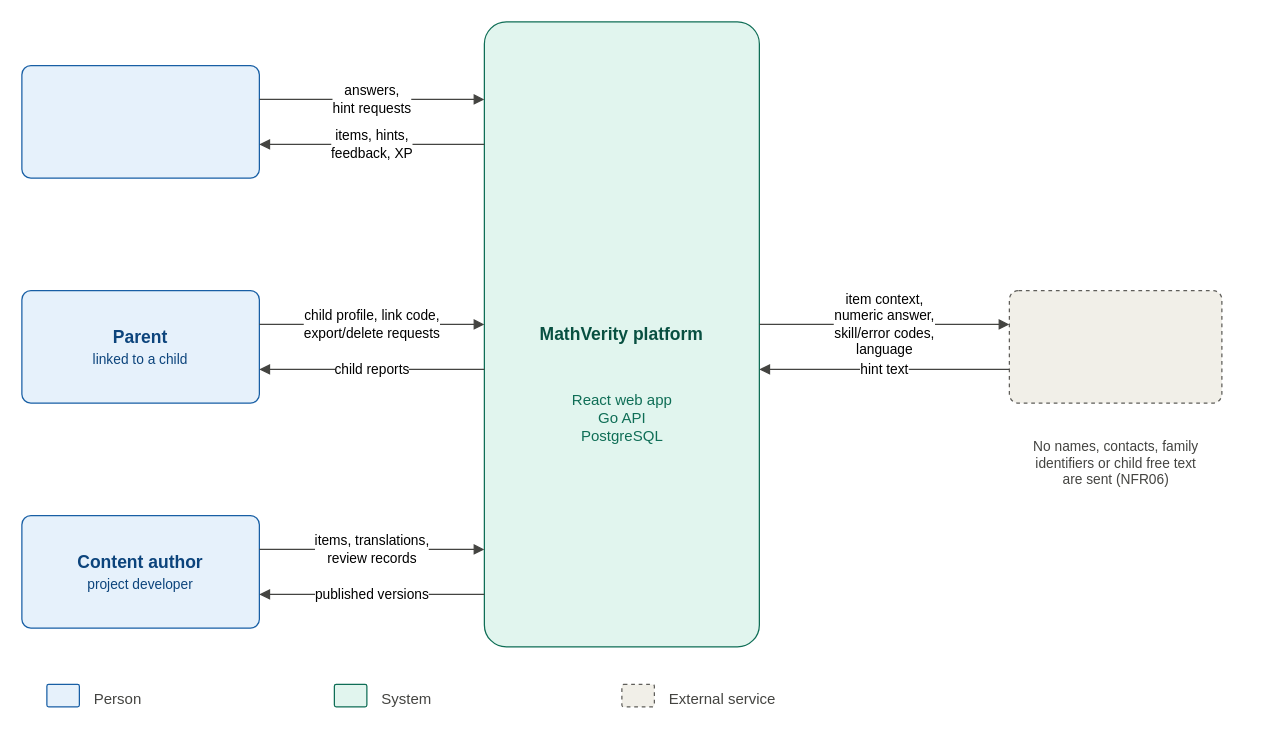
Some shapes in this 1288 by 730 pixel diagram are drawn without their labels. The box of each missing label's shape, as (x1, y1, x2, y2) in pixels:
AI provider external service: (1008, 289, 1222, 403)
Learner grades 5–6: (21, 64, 259, 178)
